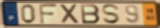0: (20, 3, 37, 24)
9: (124, 5, 141, 25)
B: (79, 4, 102, 25)
F: (38, 3, 59, 25)
S: (101, 4, 122, 25)
X: (59, 4, 81, 25)
